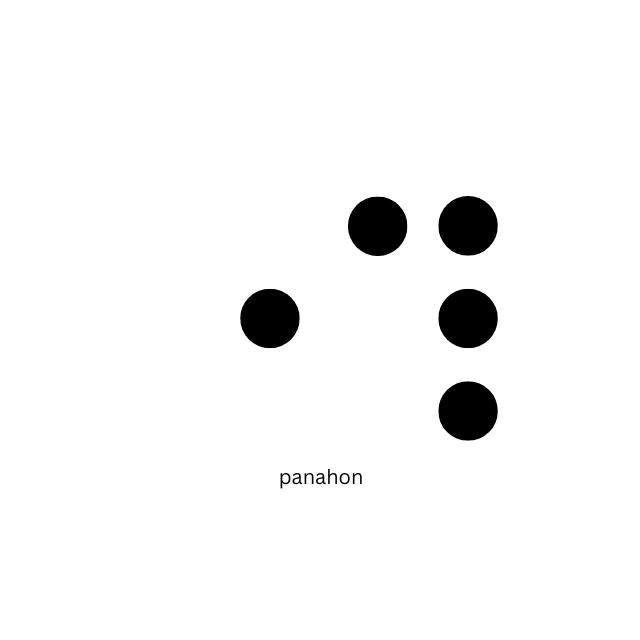dot_5: (146, 193, 301, 442)
two_cell_non_alphabet_panahon: (346, 196, 498, 441)
